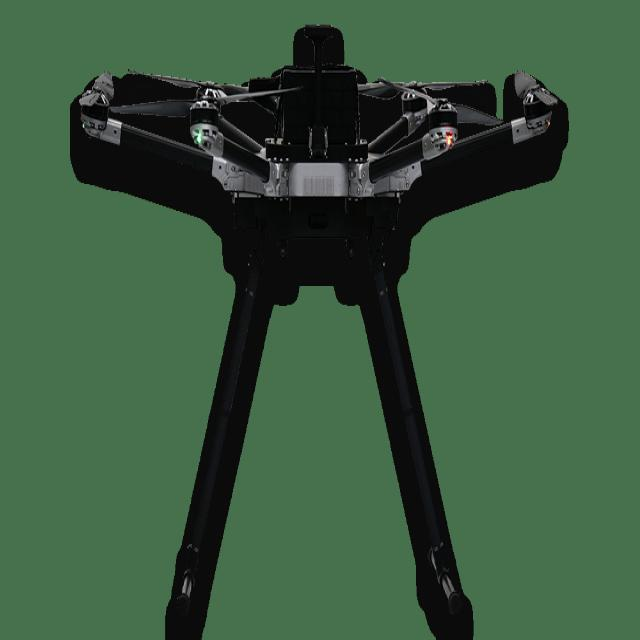drone: (20, 0, 628, 583)
